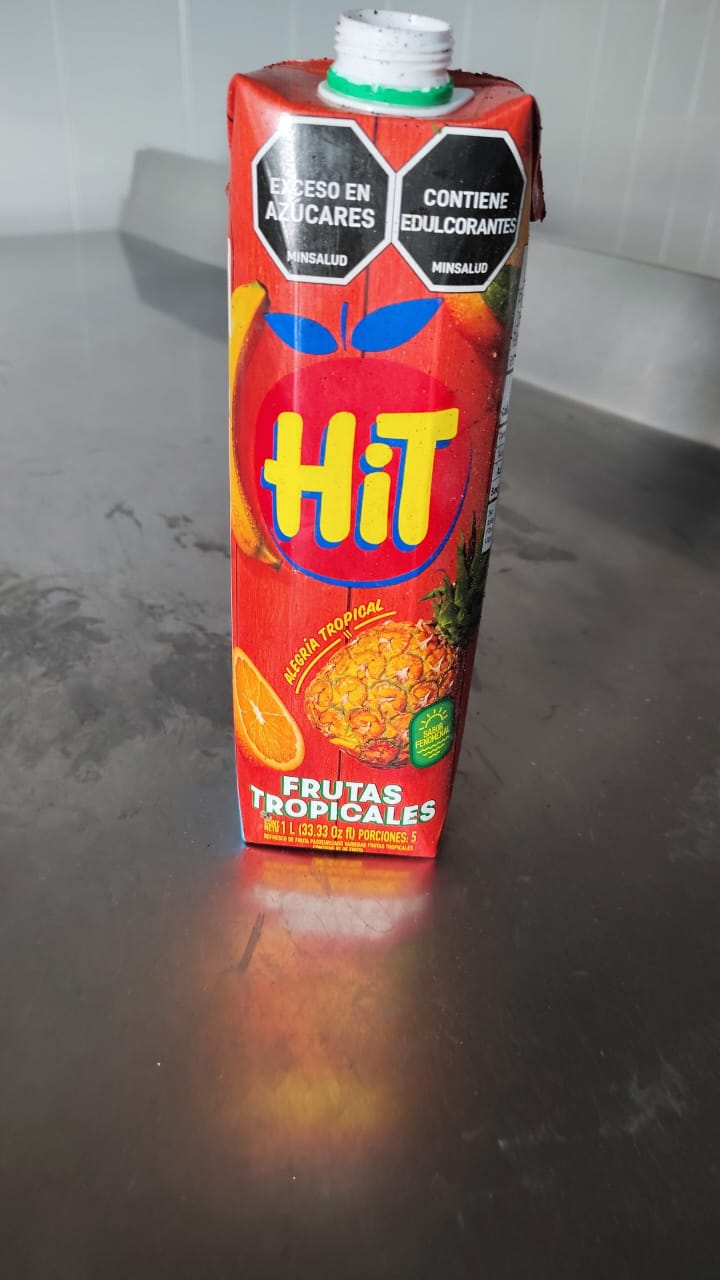Carton: (227, 75, 541, 868)
